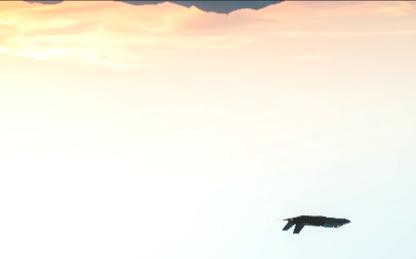F22: (280, 214, 352, 234)
